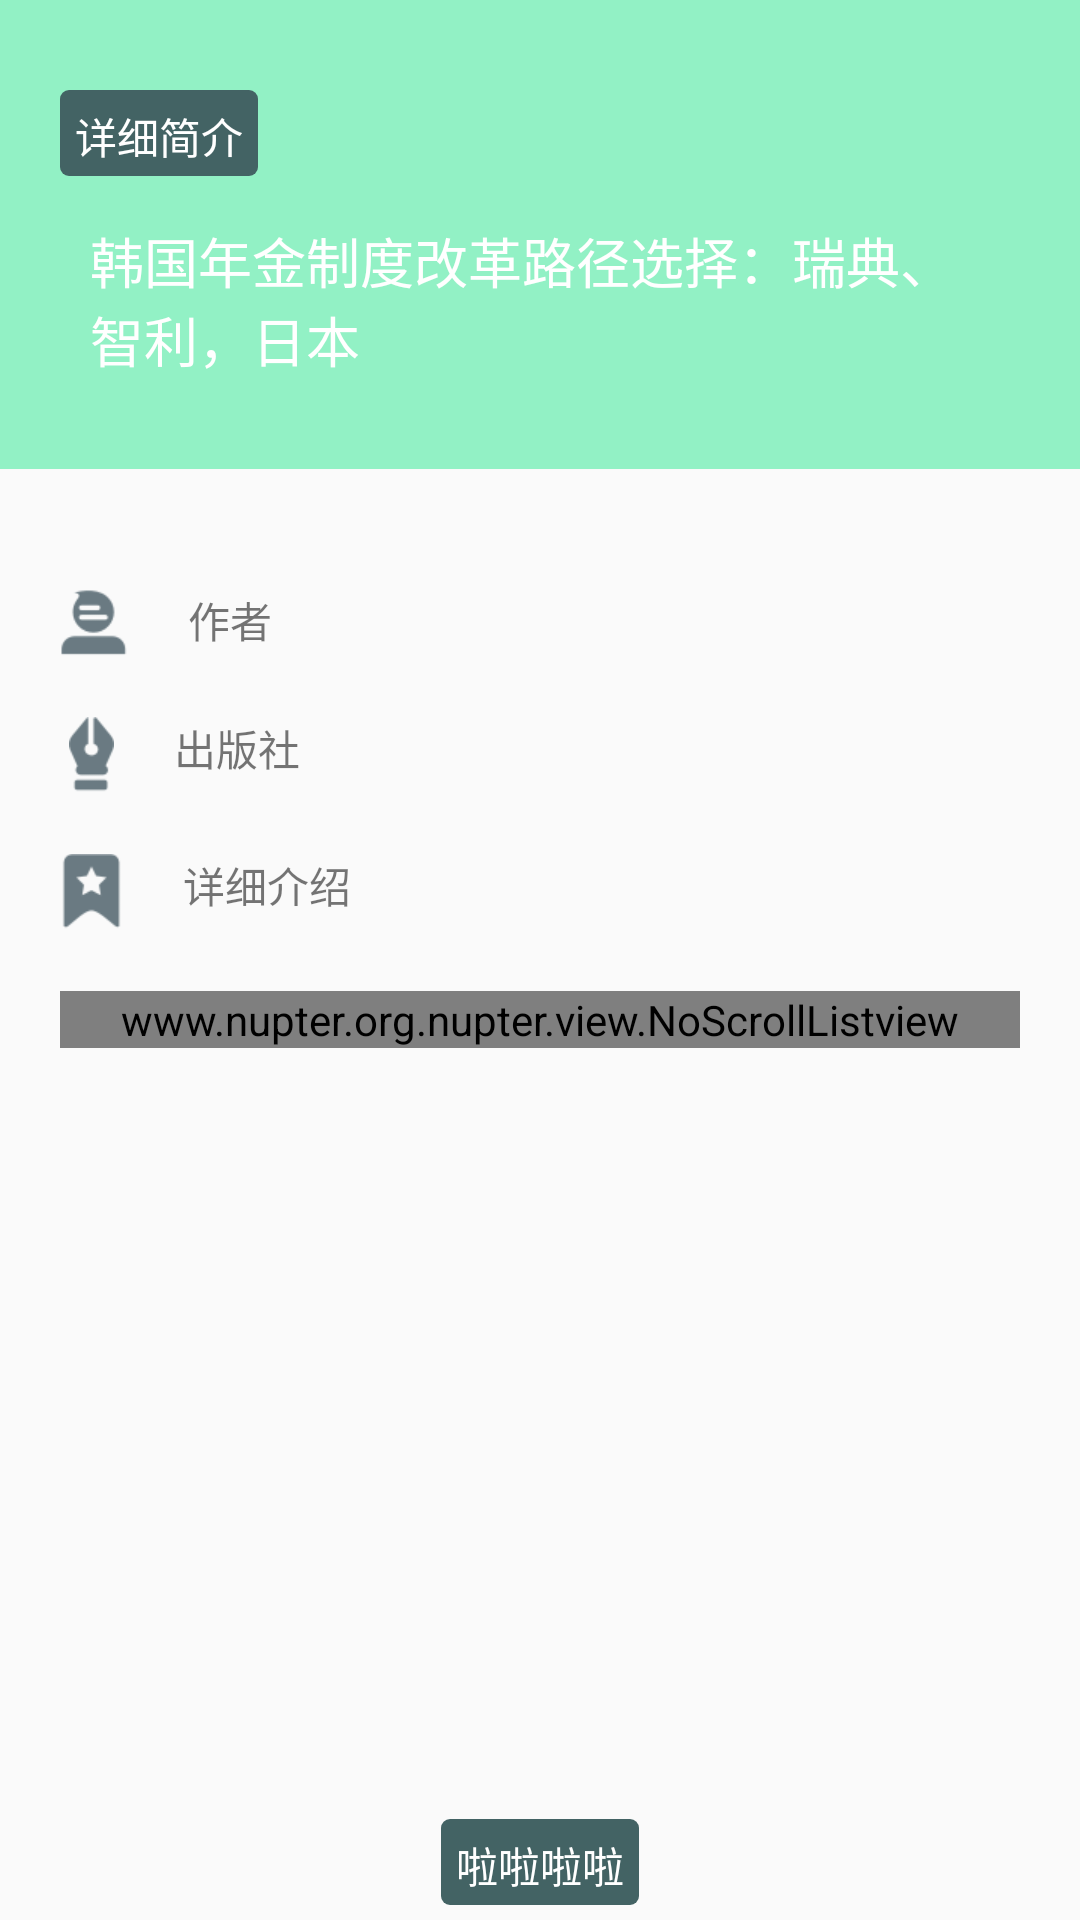

Icons on this 1080px×1920px Android screen, each with the point to tap as (x,y):
author: (93,622)
pen: (91,754)
star: (91,891)
